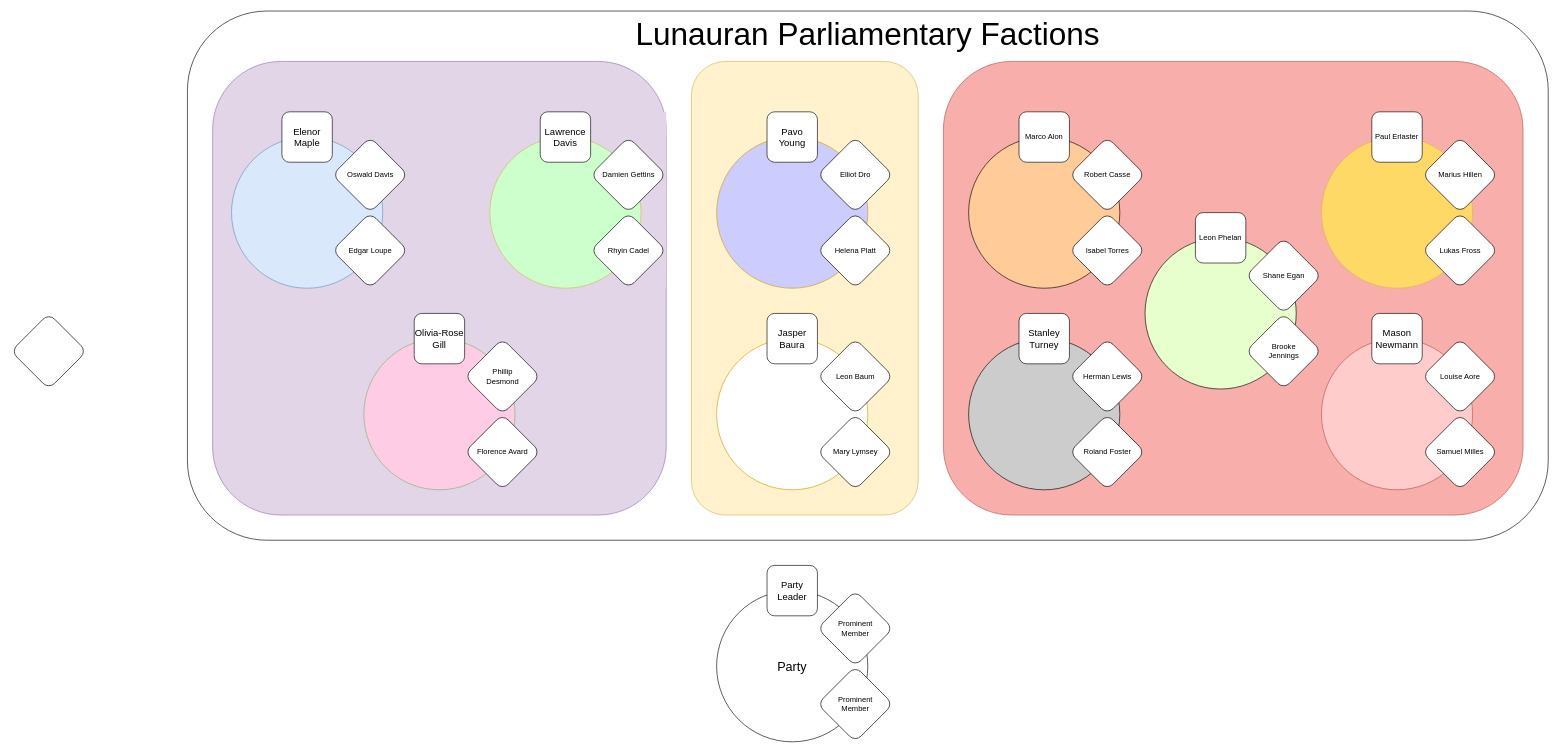
Image size: 1560x753. Some labels were removed from this diagram. Each missing label, with the box of its shape:
Advance: (968, 136, 1120, 288)
Aqua: (231, 136, 383, 288)
Civic: (968, 338, 1120, 490)
Constituational: (489, 136, 641, 288)
Liberal: (1321, 136, 1473, 288)
Popular: (1321, 338, 1473, 490)
Replenishment: (363, 338, 515, 490)
Republican: (1144, 237, 1296, 389)
Revival: (716, 136, 868, 288)
Revolve: (943, 61, 1523, 515)
Sulyion League: (716, 338, 868, 490)
Sunrise: (691, 61, 918, 515)
Text: (10, 313, 87, 389)
Universal: (212, 61, 666, 515)
